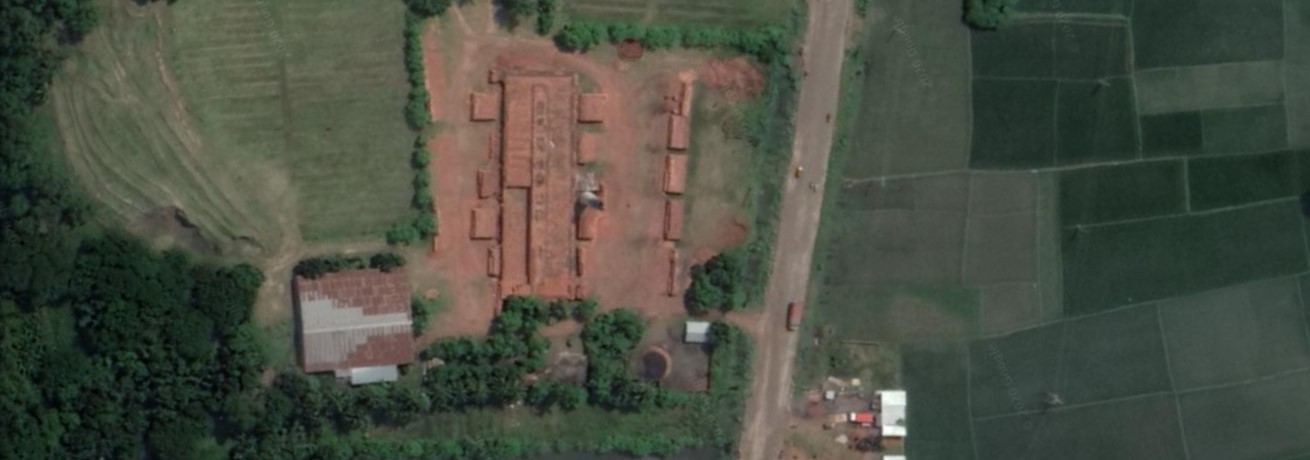kiln: (472, 65, 685, 298)
